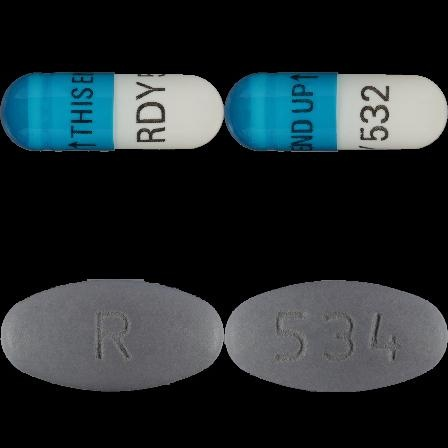55111-532: (0, 0, 224, 224)
